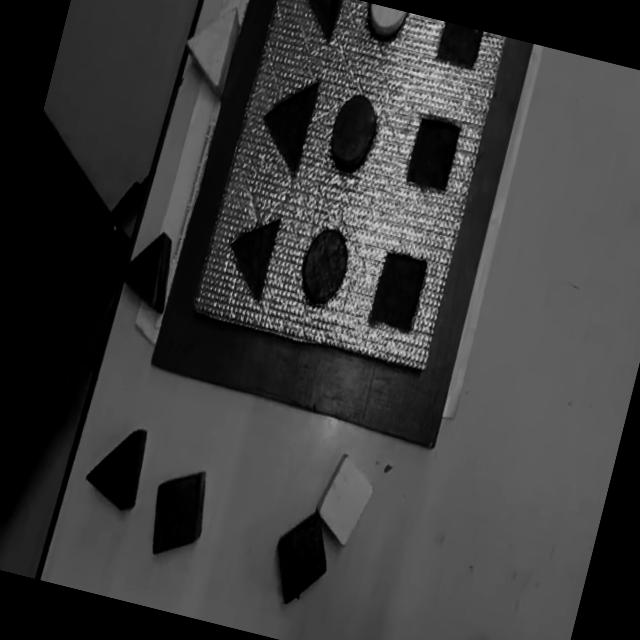bcircle: (294, 226, 355, 310)
bcube: (264, 504, 339, 611)
btriangle: (75, 416, 154, 516)
mtcube: (364, 246, 430, 336), (402, 114, 464, 196), (432, 22, 483, 74)
mttriangle: (250, 70, 322, 178), (217, 207, 282, 302)
rcircle: (321, 88, 385, 178)
rcube: (140, 459, 216, 565)
rtriangle: (116, 224, 181, 314)
wb: (187, 0, 510, 376)
ycube: (308, 447, 382, 551)
ytriangle: (174, 0, 245, 100)
